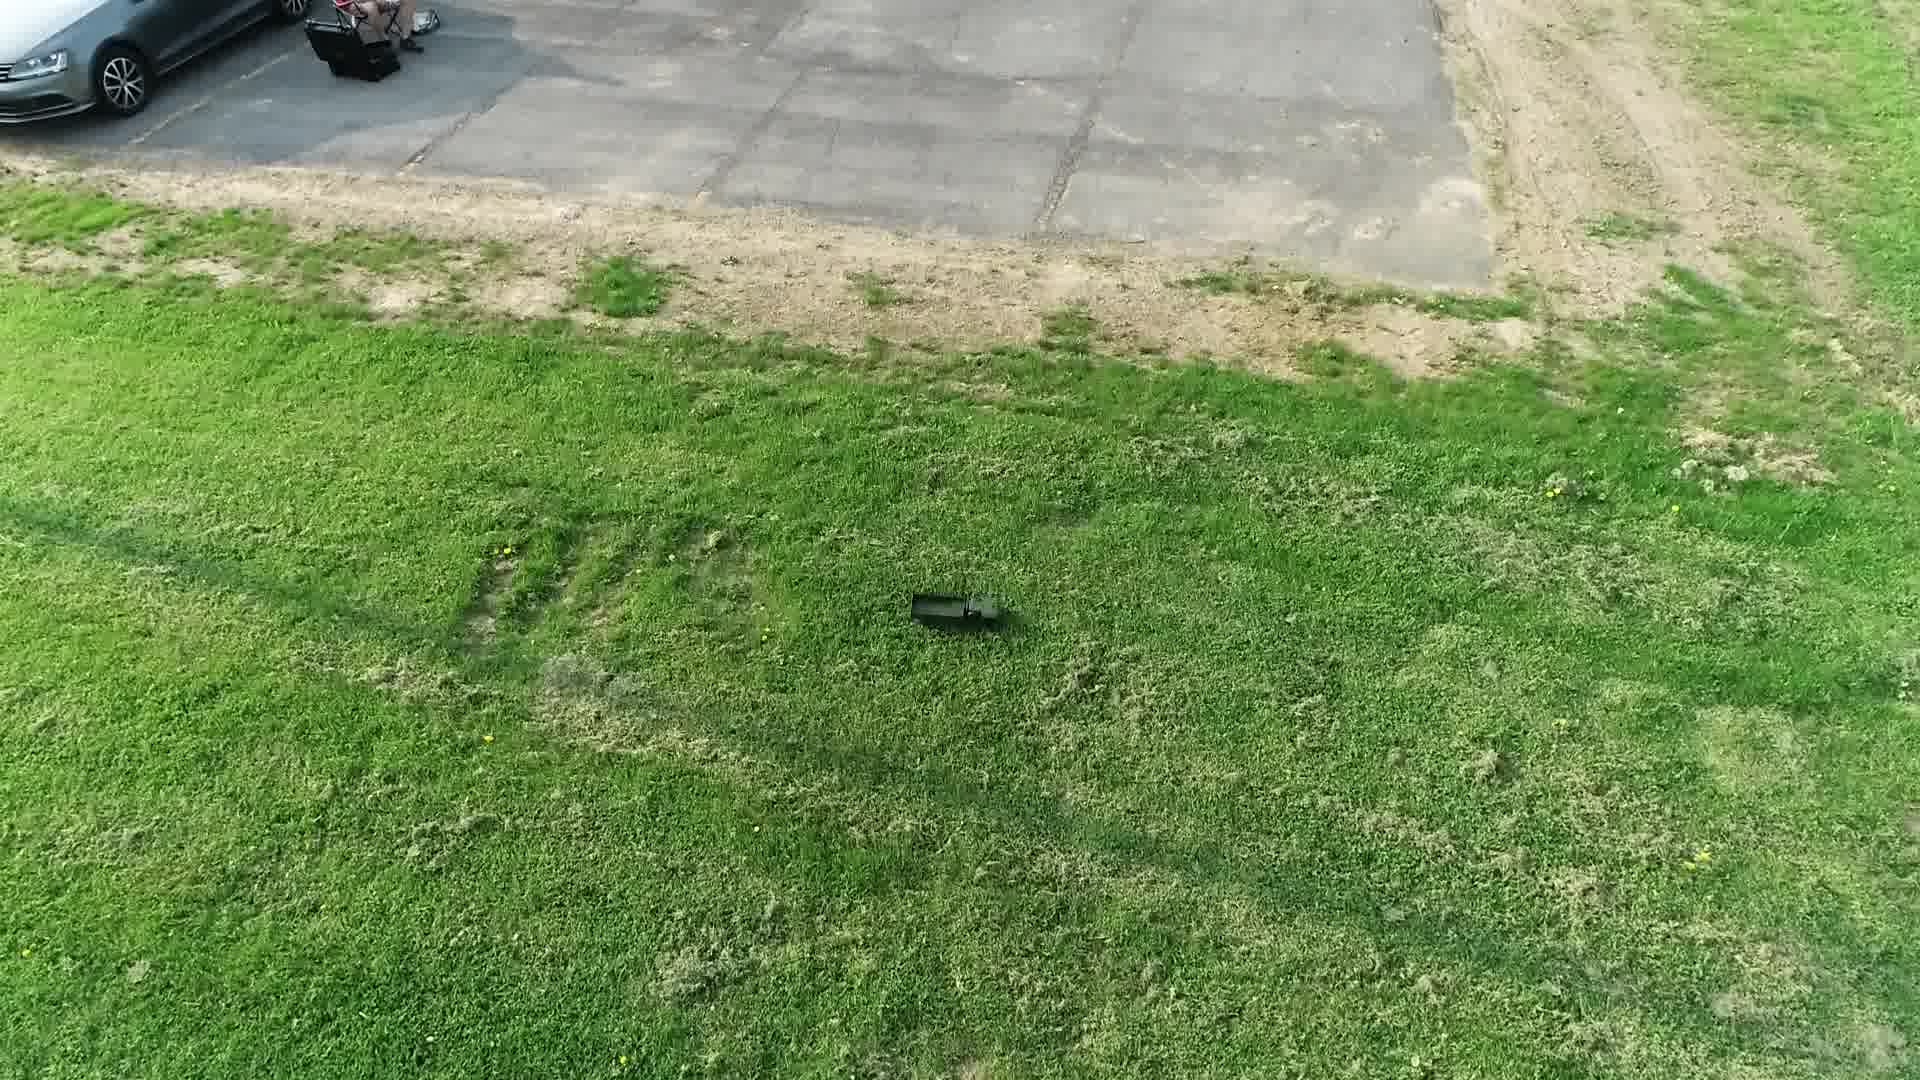transporter9: (905, 587, 1010, 630)
